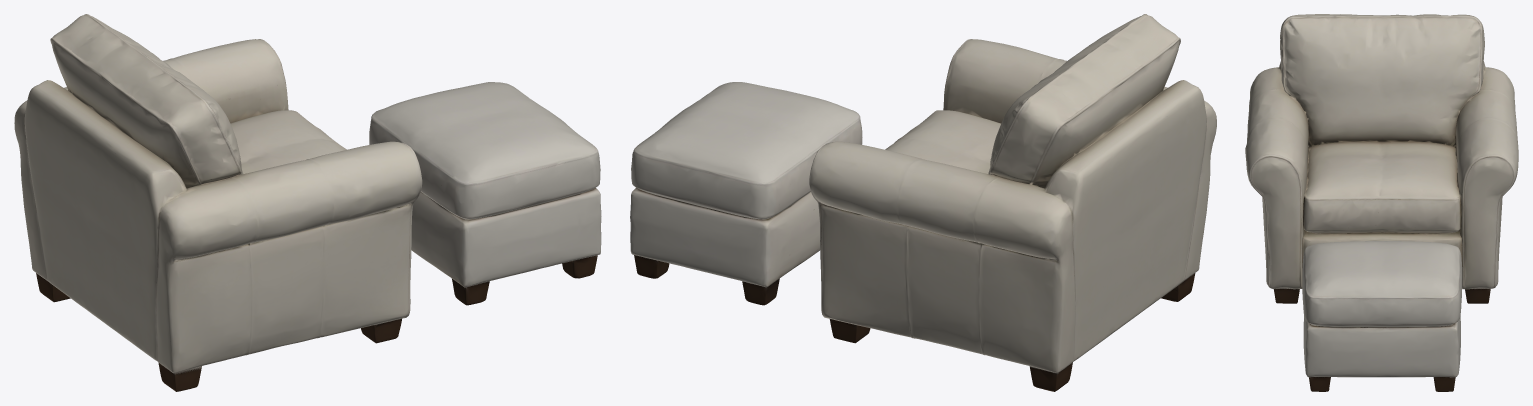
Rendered from leather-armchair-ottoman.glb.
The picture shows the model from 3 angles, left to right: view 1: azimuth 30°, elevation 25°; view 2: azimuth 150°, elevation 25°; view 3: azimuth 270°, elevation 25°; orthographic projection. The views are drawn at different scales.
Visible parts, largest first — view 1: tripo_node_03d9642c-f98c-4533-903b-0a0a7e3eeacf; view 2: tripo_node_03d9642c-f98c-4533-903b-0a0a7e3eeacf; view 3: tripo_node_03d9642c-f98c-4533-903b-0a0a7e3eeacf.
Part boxes in pixels (left/top/right/bottom): tripo_node_03d9642c-f98c-4533-903b-0a0a7e3eeacf: left=14, top=14, right=601, bottom=391; tripo_node_03d9642c-f98c-4533-903b-0a0a7e3eeacf: left=630, top=14, right=1216, bottom=391; tripo_node_03d9642c-f98c-4533-903b-0a0a7e3eeacf: left=1245, top=14, right=1518, bottom=391.
Bounding box in the file's own units: 1.64 × 0.95 × 1.06.
Materials: 1 (1 with a texture image).
